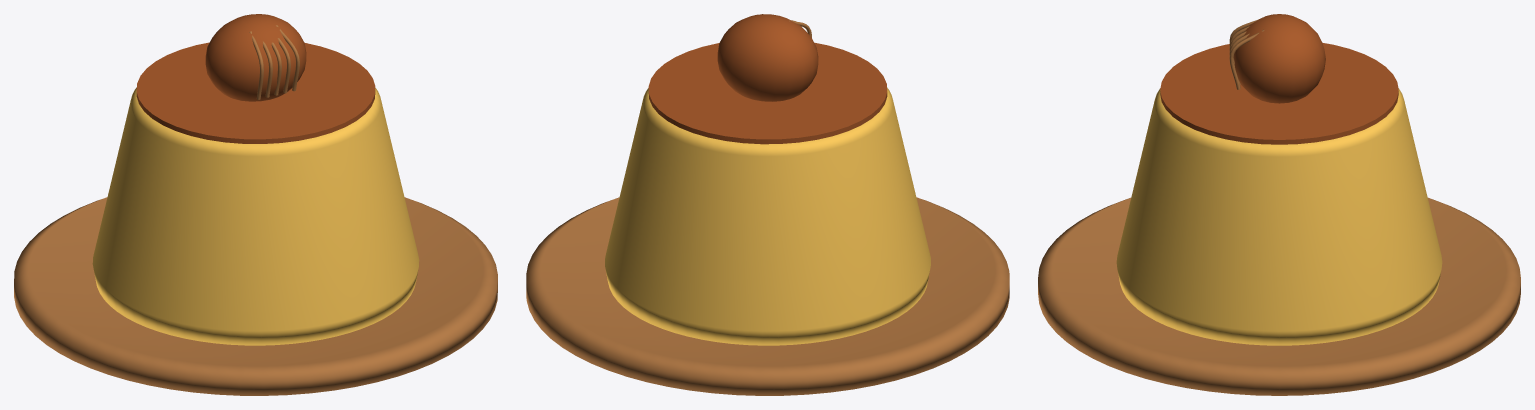
The model's file is 15-chestnut-pudding.glb.
3 views of the same model, side by side, from view 1: azimuth 30°, elevation 25°; view 2: azimuth 150°, elevation 25°; view 3: azimuth 270°, elevation 25° (orthographic).
Visible parts, largest first — view 1: 밤 푸딩; view 2: 밤 푸딩; view 3: 밤 푸딩.
Part boxes in pixels (x1,y1,x2,y2): 밤 푸딩: [14, 14, 497, 395]; 밤 푸딩: [526, 14, 1009, 395]; 밤 푸딩: [1038, 14, 1520, 395].
Size of the model in its own units: 1.66 by 1.1 by 1.66.
